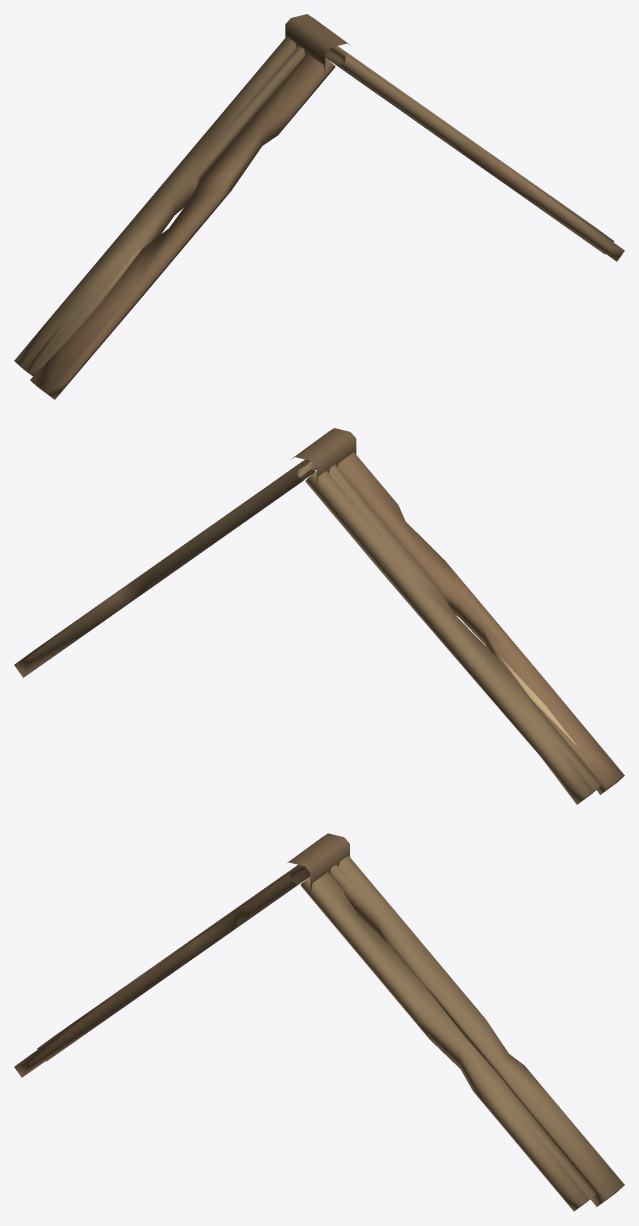
Rendered from rpgpp_av_roof_02_6x3x3_end_01.gltf.
3 renders of one model, top to bottom at view 1: azimuth 30°, elevation 25°; view 2: azimuth 150°, elevation 25°; view 3: azimuth 330°, elevation 25°, orthographic.
Parts seen in each view (by area): view 1: rpgpp_av_roof_02_6x3x3_end_01; view 2: rpgpp_av_roof_02_6x3x3_end_01; view 3: rpgpp_av_roof_02_6x3x3_end_01.
Part boxes in pixels (<box>): rpgpp_av_roof_02_6x3x3_end_01: <box>14,14,624,399</box>; rpgpp_av_roof_02_6x3x3_end_01: <box>14,428,624,804</box>; rpgpp_av_roof_02_6x3x3_end_01: <box>14,833,624,1211</box>.
Bounding box in the file's own units: 0.0837 × 0.0401 × 0.01.
1 material, 1 textured.
